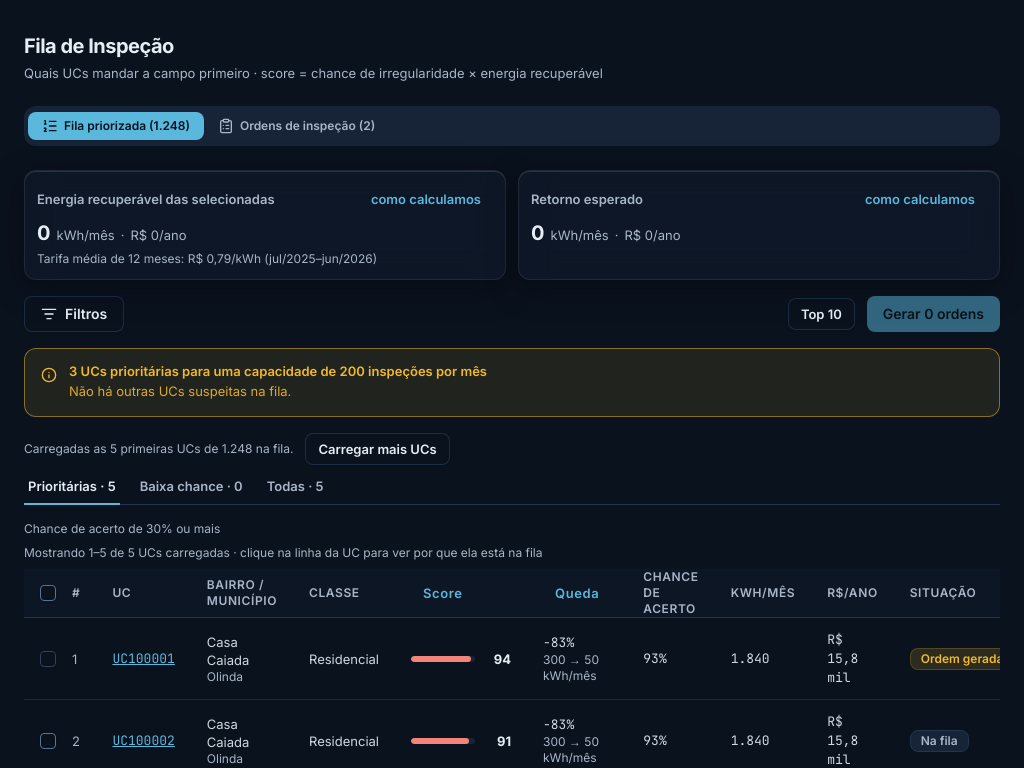
Test: Fila de Inspeção › seleciona o topo da fila pulando as UCs que já têm ordem
Click the button with aria-label "Selecionar top 10 prioritárias".
click(821, 314)  # box [788,298,855,330]
(page scrolled)
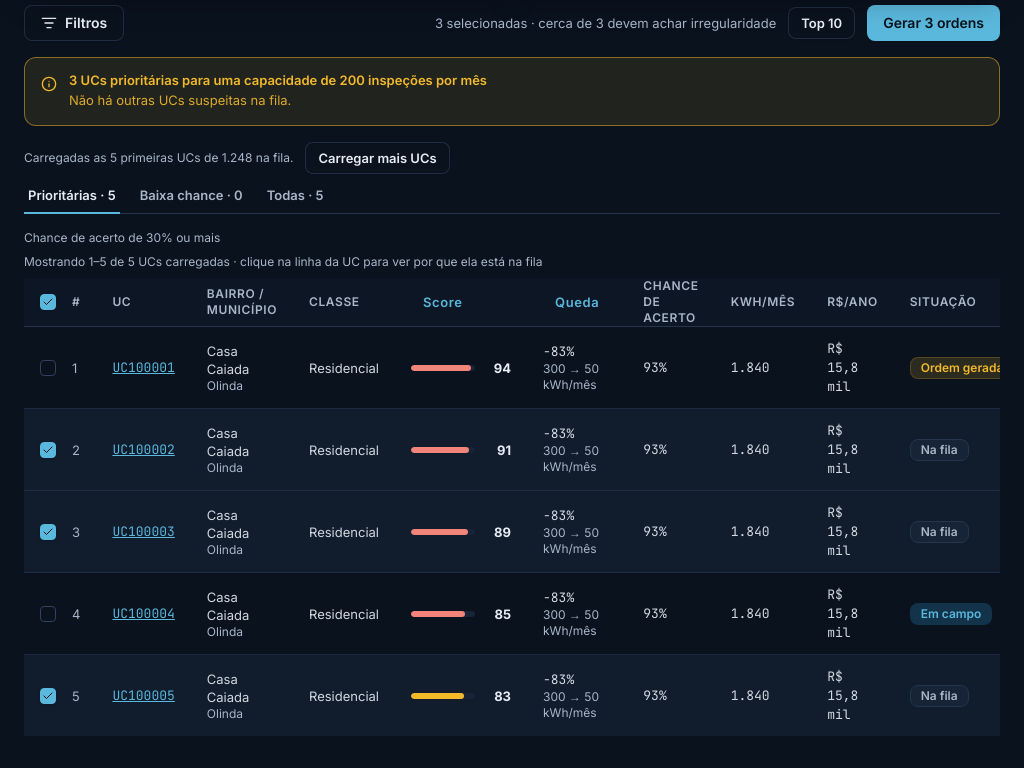
Now the button "Gerar 3 ordens" is enabled, box [867,5,1000,41]
Now the checkbox named "Selecionar UC100005" is checked, box [40,688,56,704]
